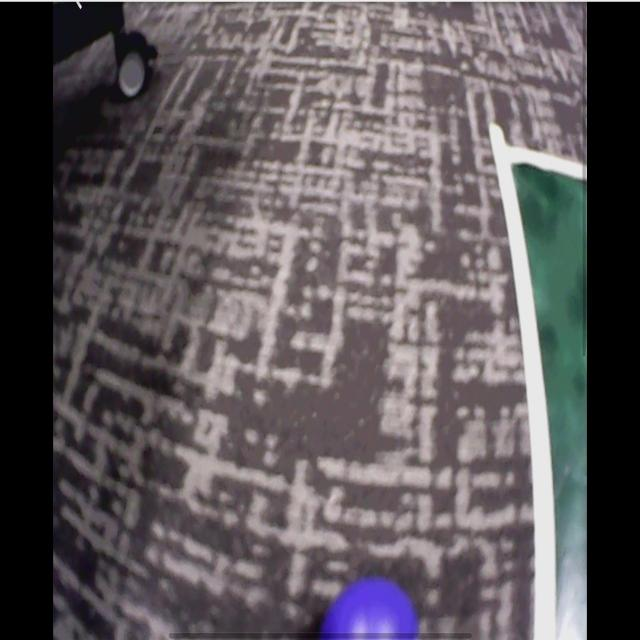ball: (324, 583, 423, 640)
